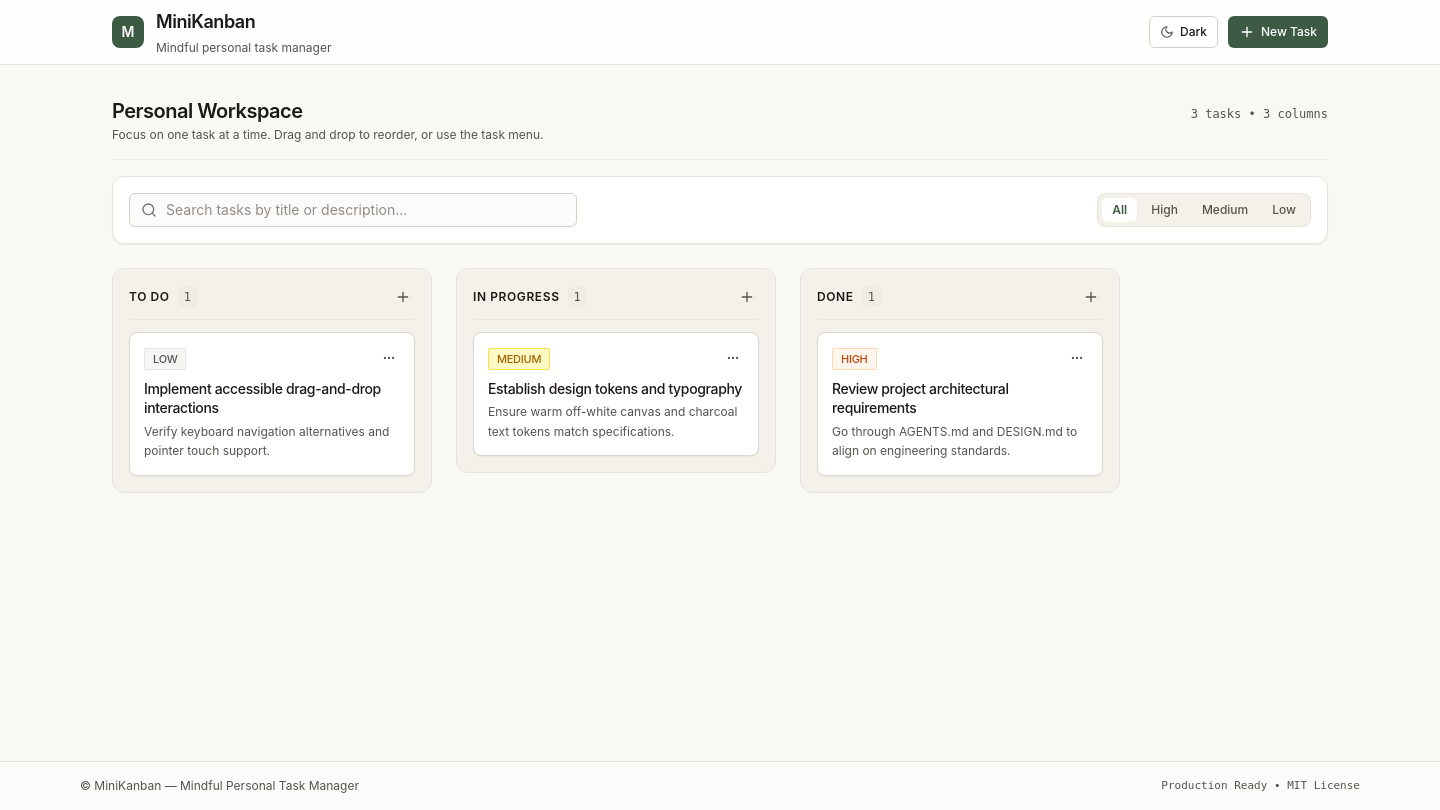
Test case: App Integration › creates a new task via the New Task modal, updates board, and persists to localStorage
The image size is (1440, 810).
// Open modal
Click the button with aria-label "Create a new task". click: (1278, 32)
box: [1228, 16, 1328, 48]
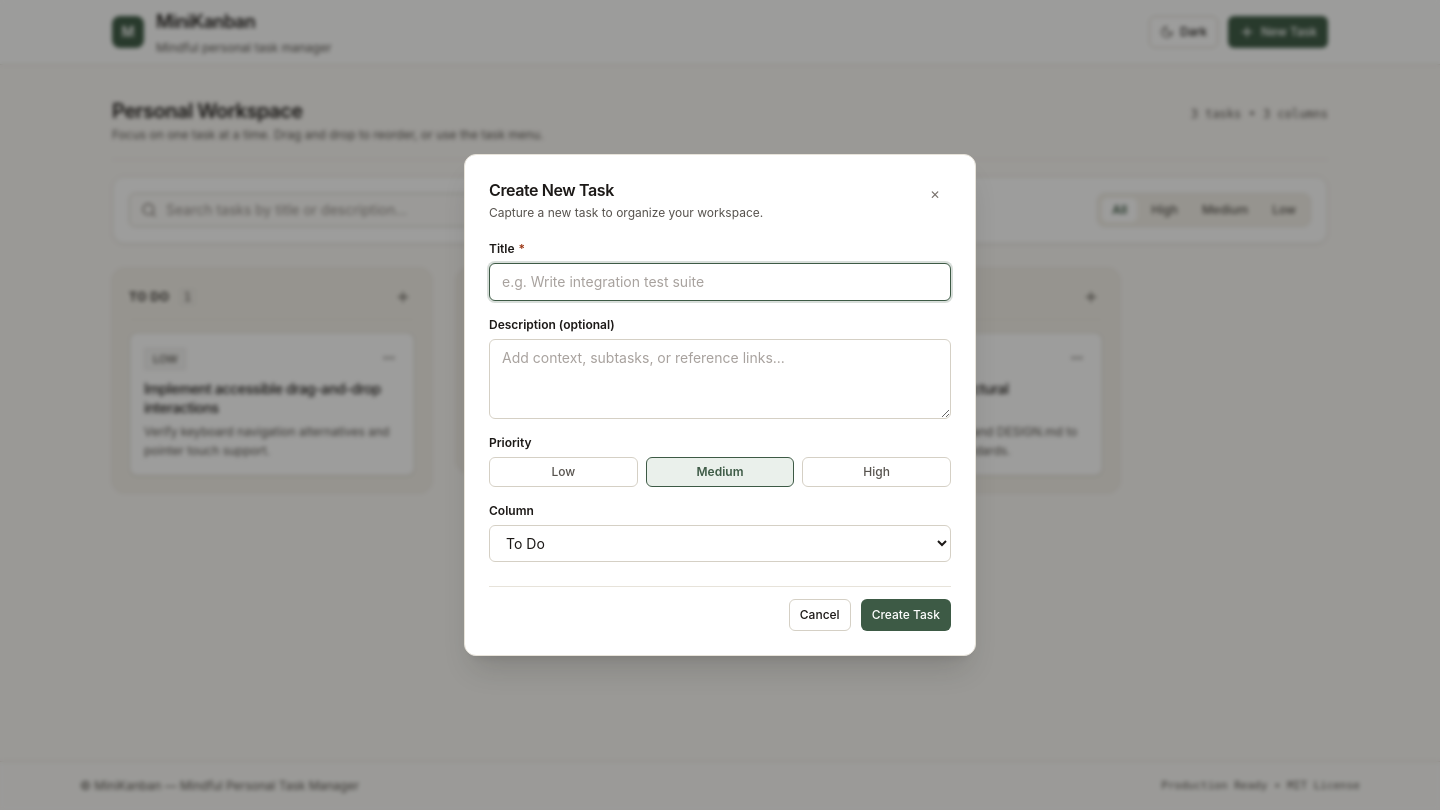
// Fill out form
Type "Write end-to-end tests" into the field labelled "Title*". click: (720, 282)
box: [489, 263, 951, 301]
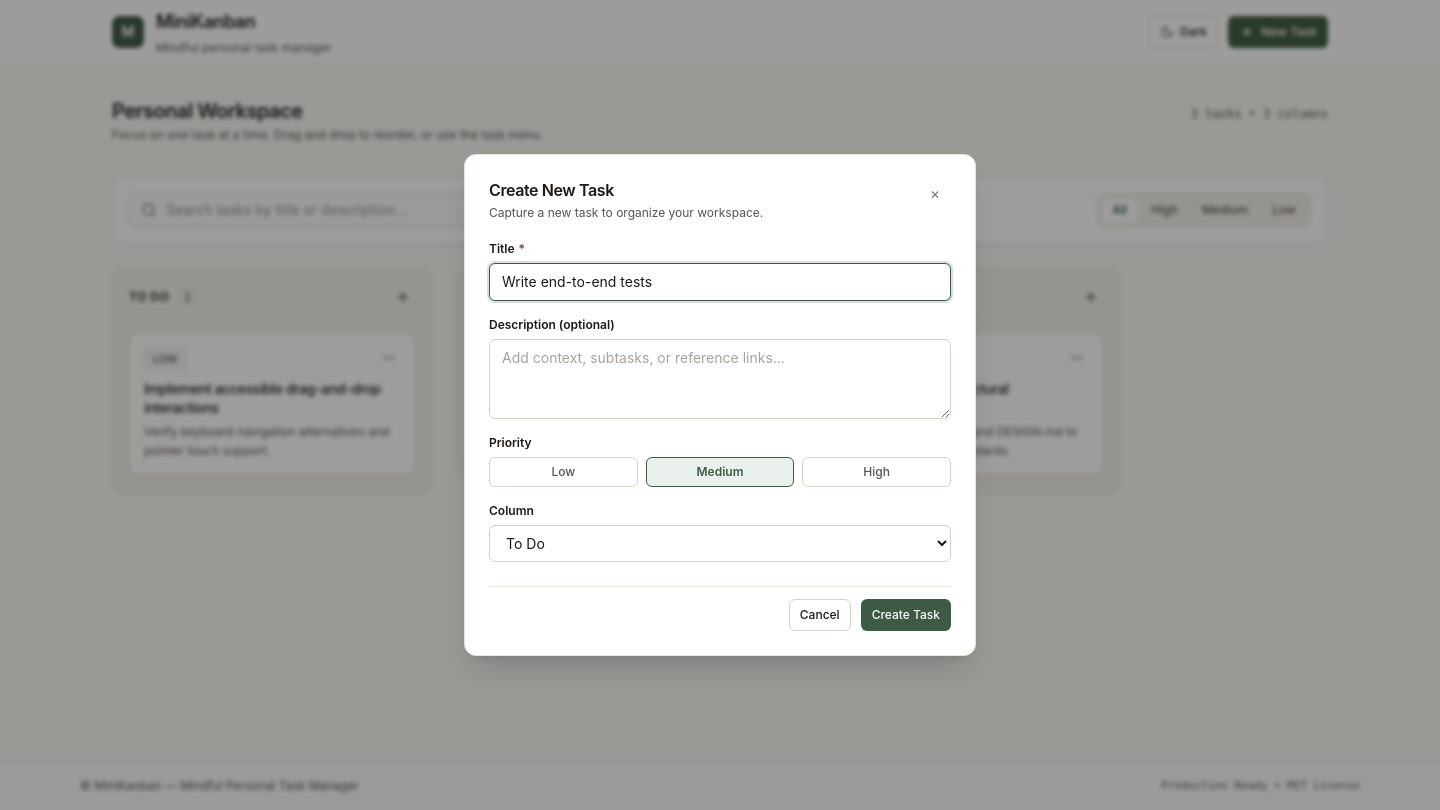
Type "Ensure coverage for all CRUD operations" into the text box labelled "Description (optional)". click: (720, 379)
box: [489, 339, 951, 419]
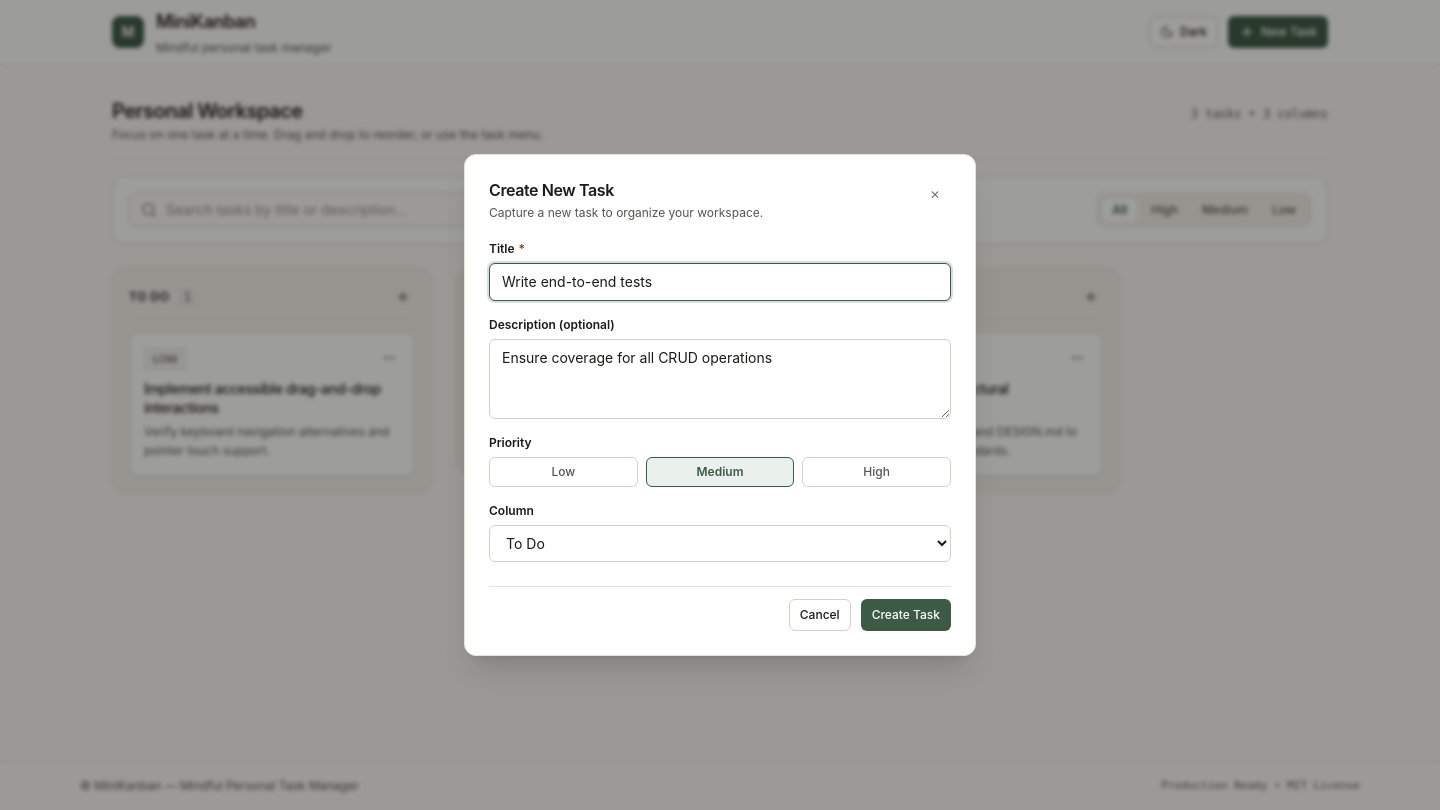
// Select Urgent/High priority within modal
Click the button "High". click: (877, 472)
box: [802, 457, 951, 487]
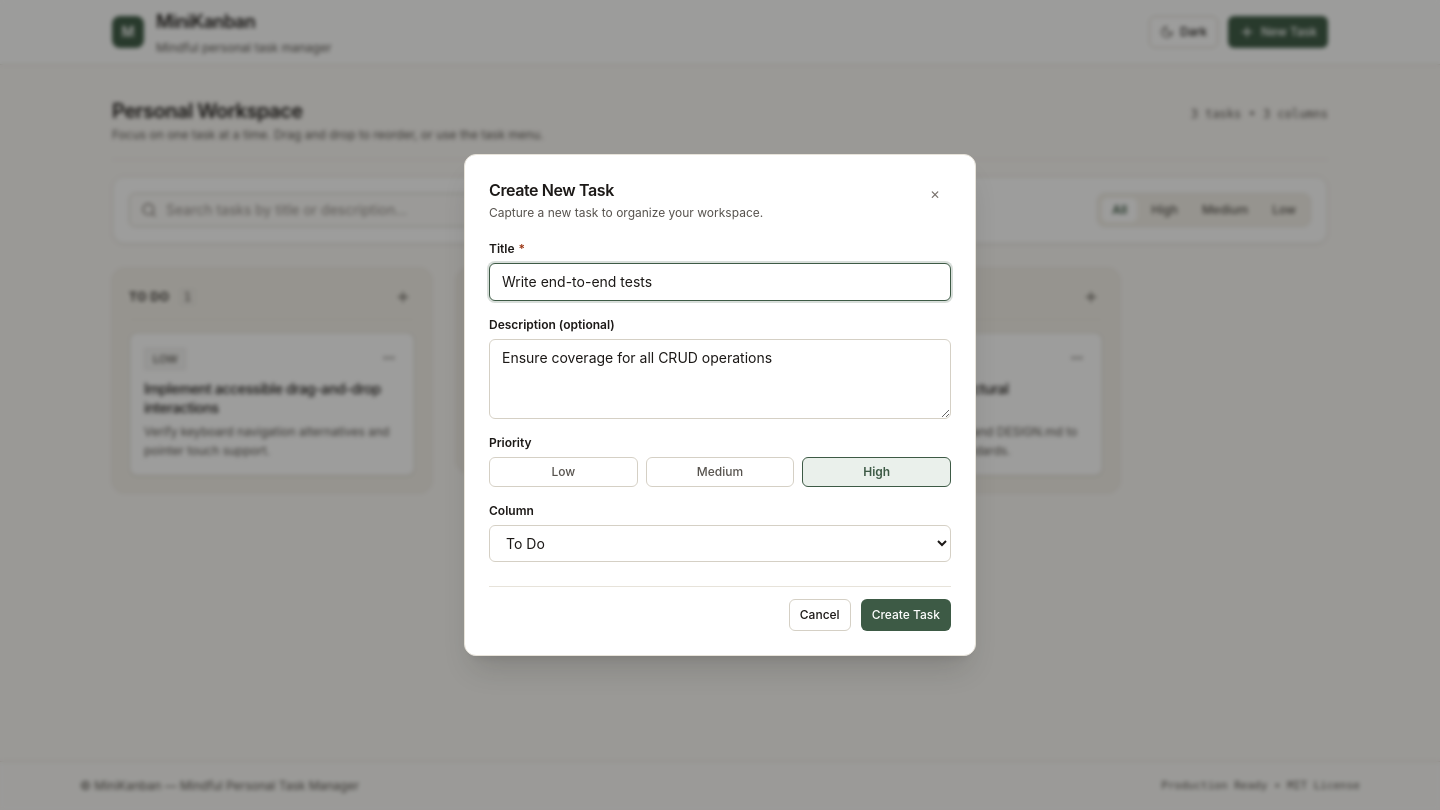
// Select target column: In Progress
Select "In Progress" in the dropdown labelled "Column". click: (720, 544)
box: [489, 525, 951, 562]
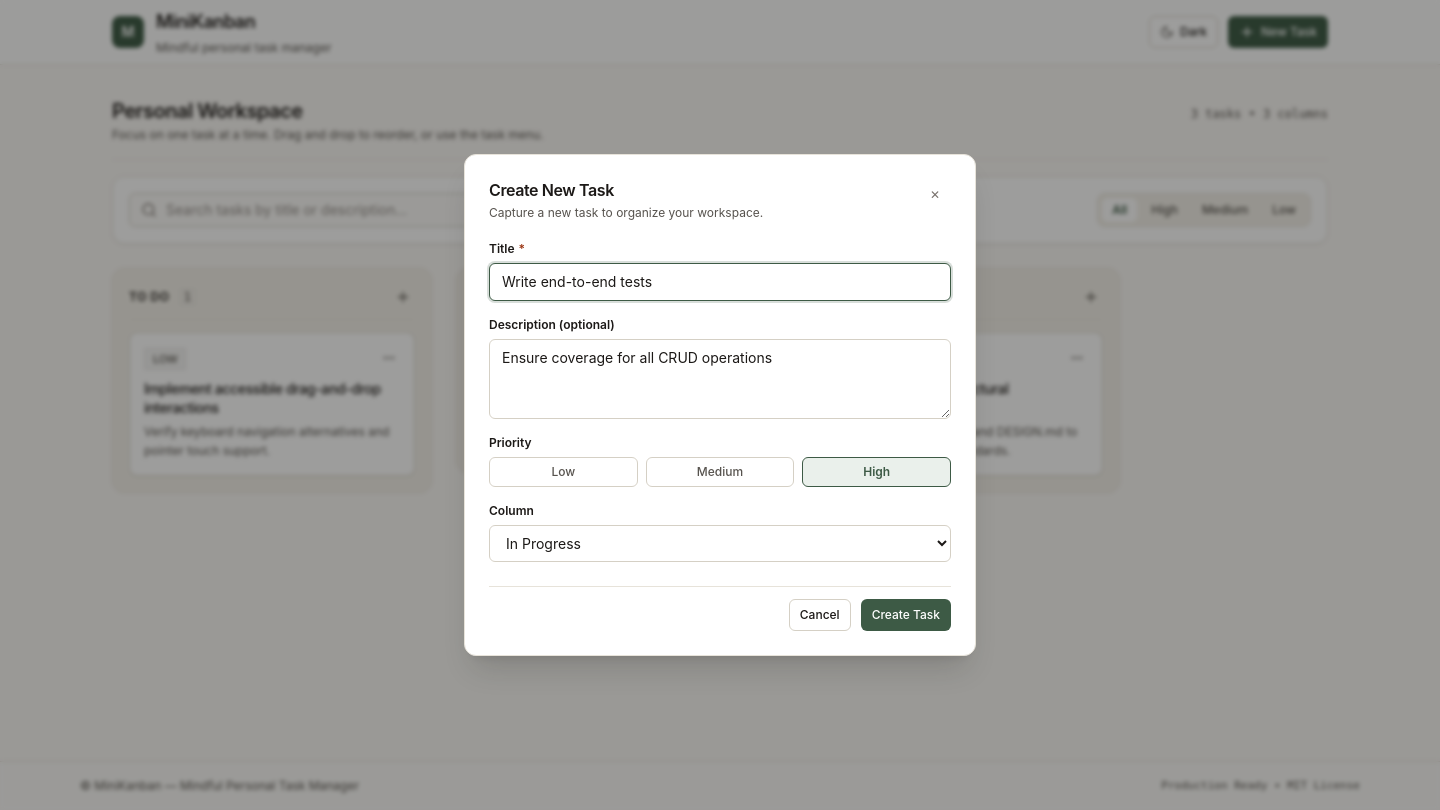
// Submit form
Click the button "Create Task". click: (906, 615)
box: [861, 599, 951, 631]
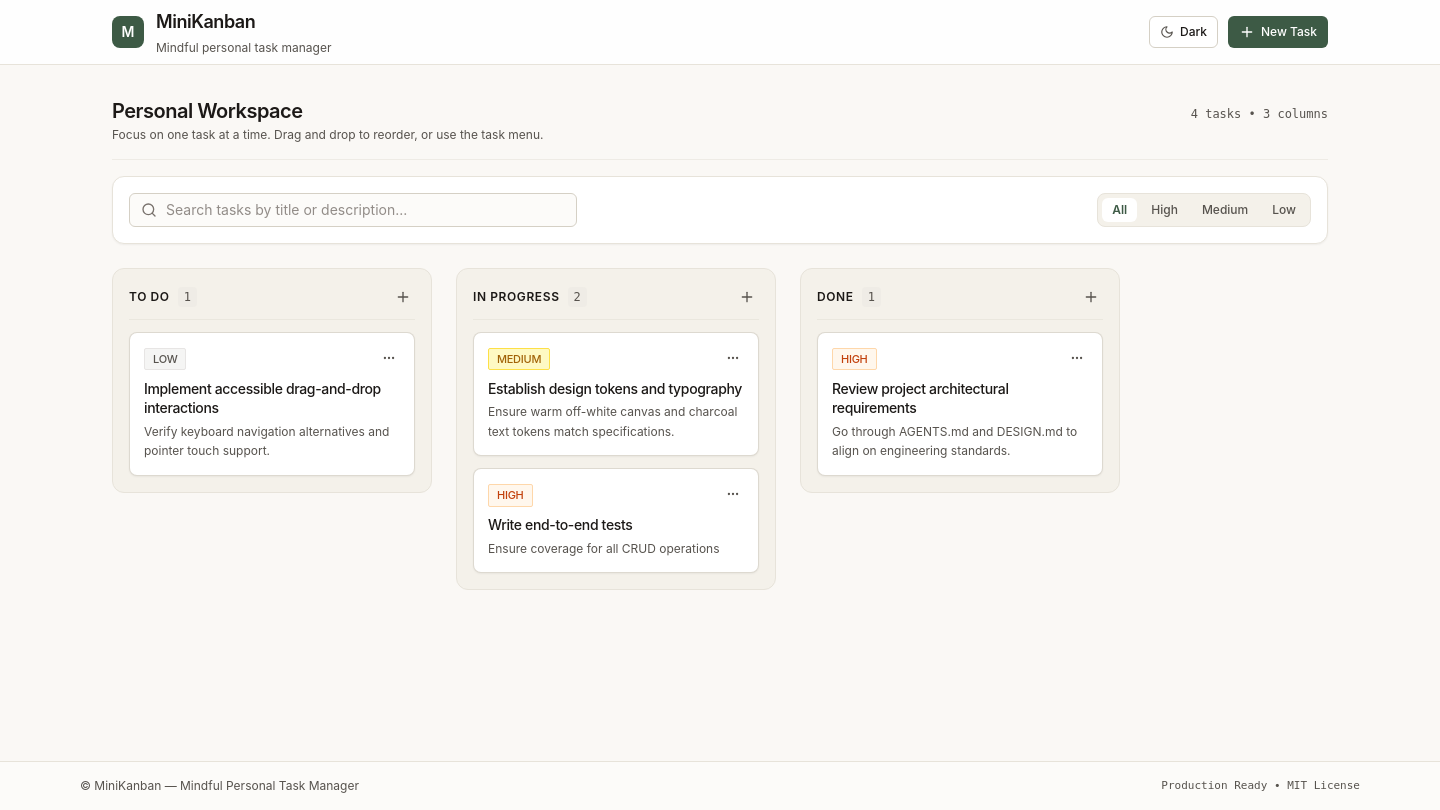
Expected: the dialog is gone
Expected: the heading "Write end-to-end tests" is shown, [488, 516, 632, 533]
Expected: the text "Ensure coverage for all CRUD operations" is shown, [488, 538, 744, 558]
